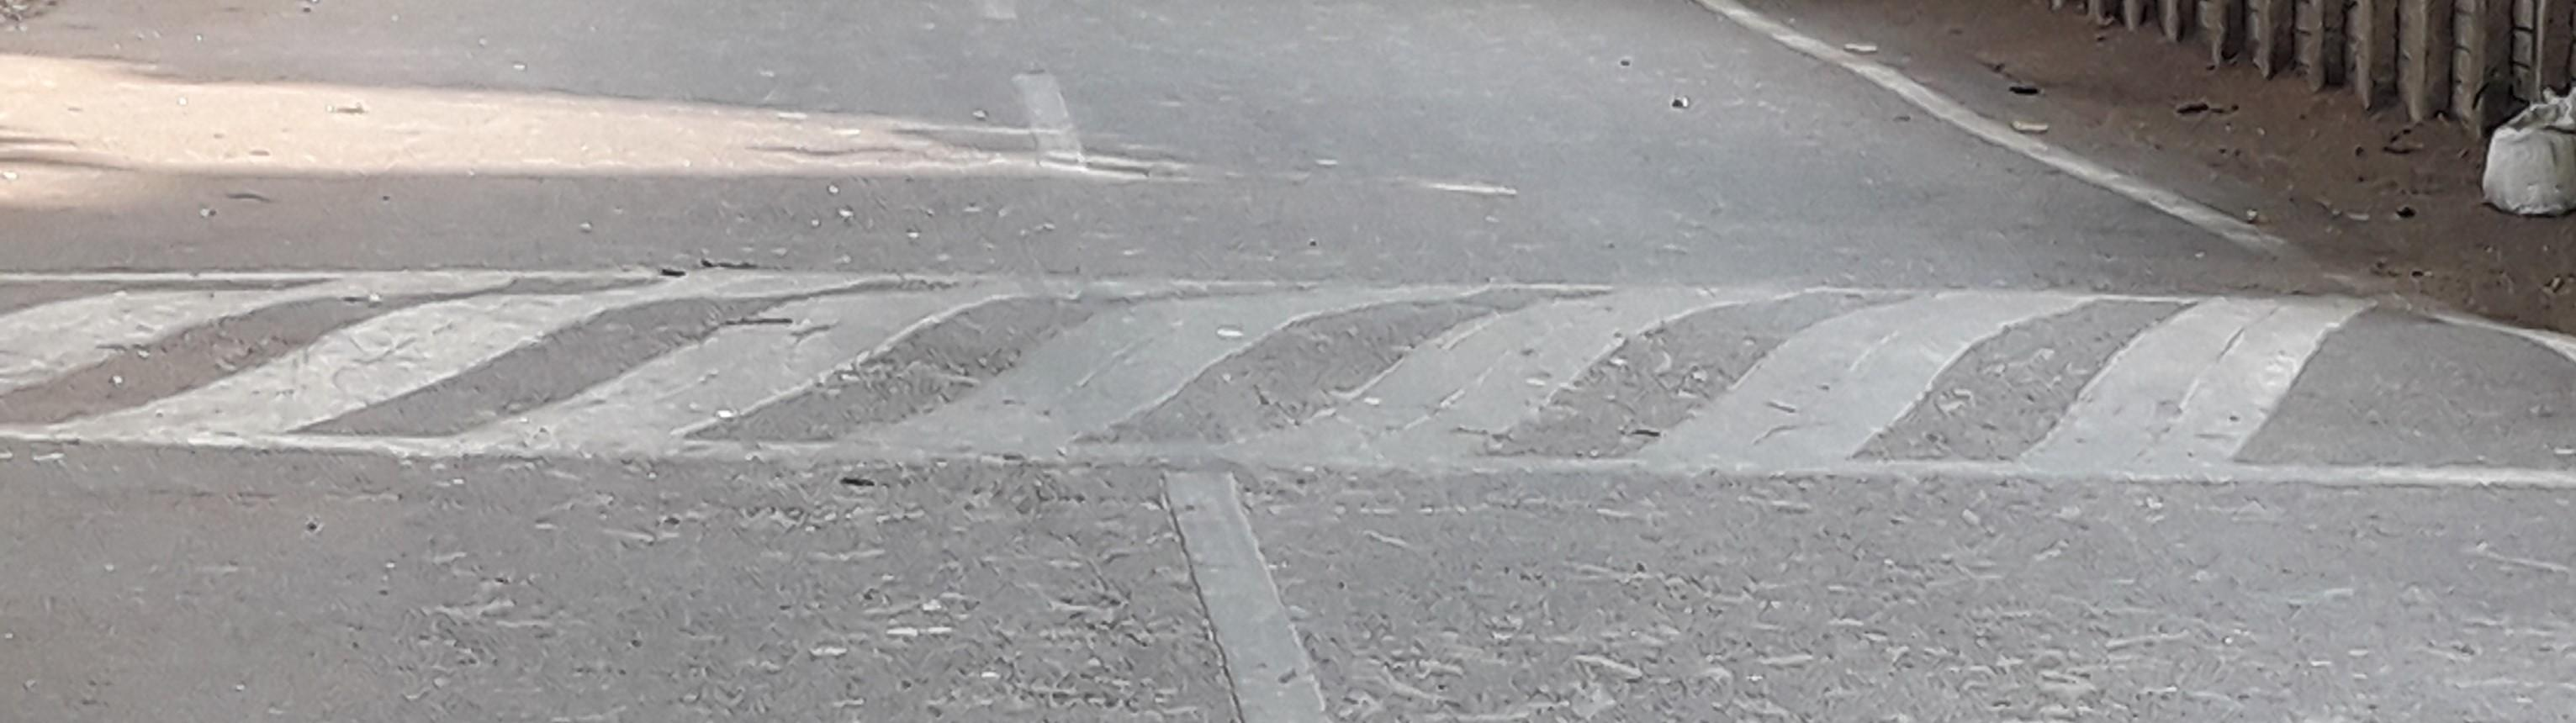speed-bump: (7, 265, 2569, 489)
